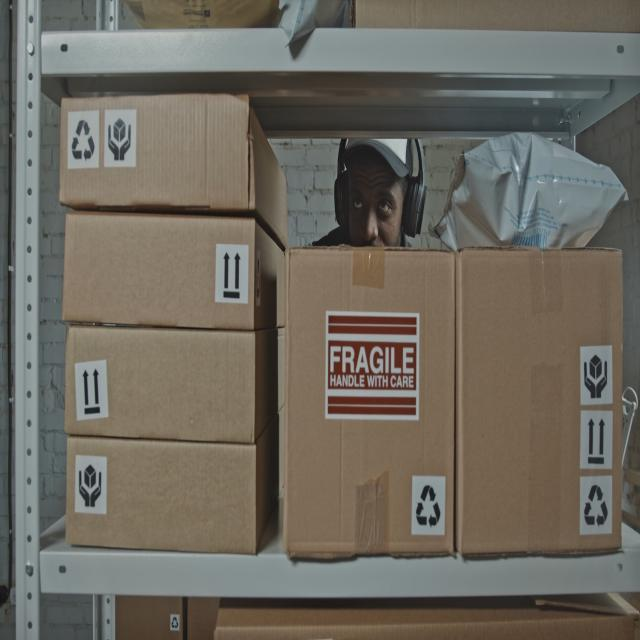counting-the-number-of-boxes: (285, 247, 455, 557), (455, 250, 622, 555), (60, 95, 290, 252), (66, 406, 285, 554), (65, 323, 285, 444), (62, 213, 285, 330)
